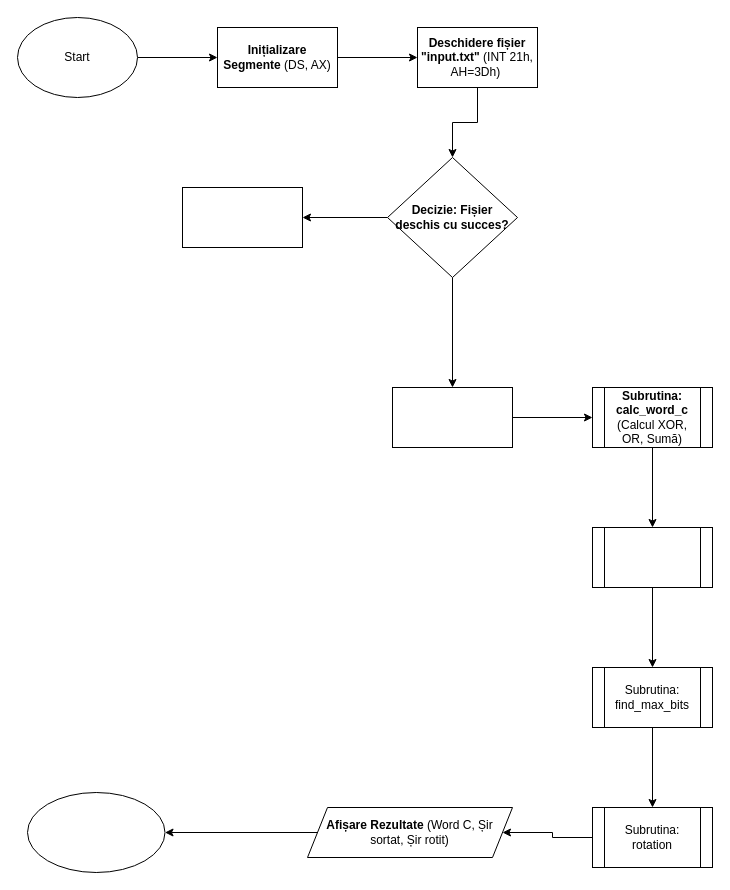
This 730x890 diagram has some shape labels left out. The centre of each missing label's shape, as x and y in pixels:
DA: Mergi la procesare: point 452,417
EXIT: point 95,832
NU: Afișare mesaj eroare lungime -> EXIT: point 242,217
Subrutina: sort_desc (Bubble Sort): point 652,557
